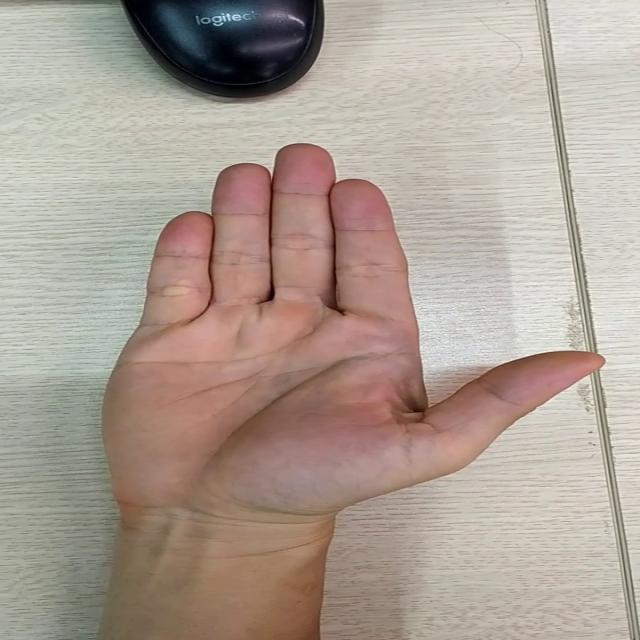hand: (120, 141, 583, 519)
